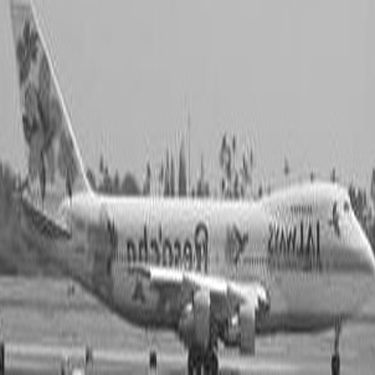airplane: (2, 3, 370, 372)
